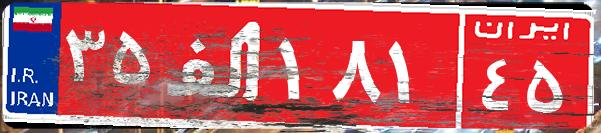1: (385, 28, 445, 110), (273, 28, 330, 110)
3: (57, 26, 110, 107)
4: (475, 38, 525, 113)
5: (110, 28, 158, 105), (525, 38, 570, 115)
8: (330, 28, 385, 110)
الف: (158, 15, 273, 115)
